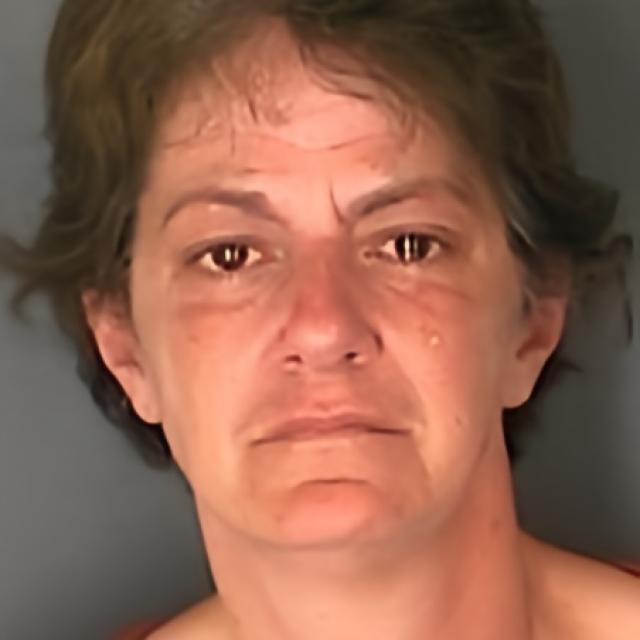sad: (135, 29, 512, 552)
